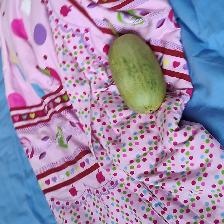gua: (106, 36, 168, 110)
